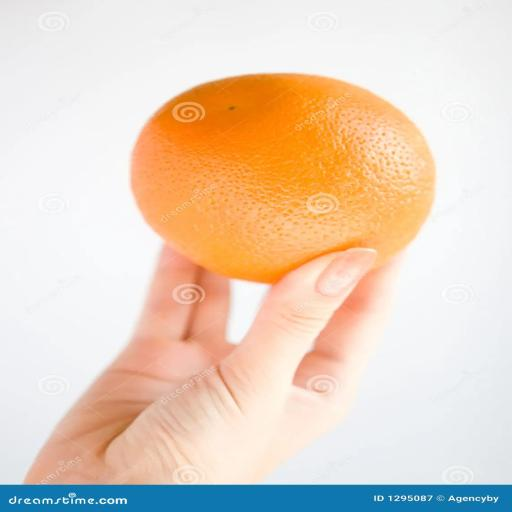orange: (132, 74, 434, 282)
